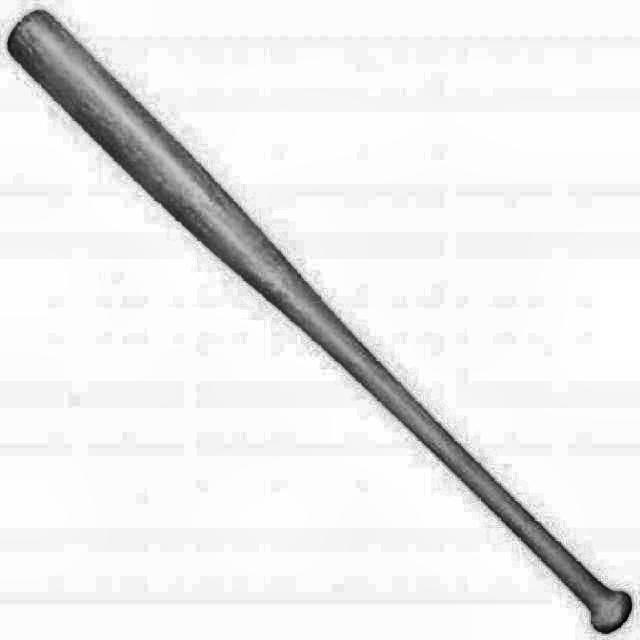tongkat pemukul: (0, 3, 639, 639)
